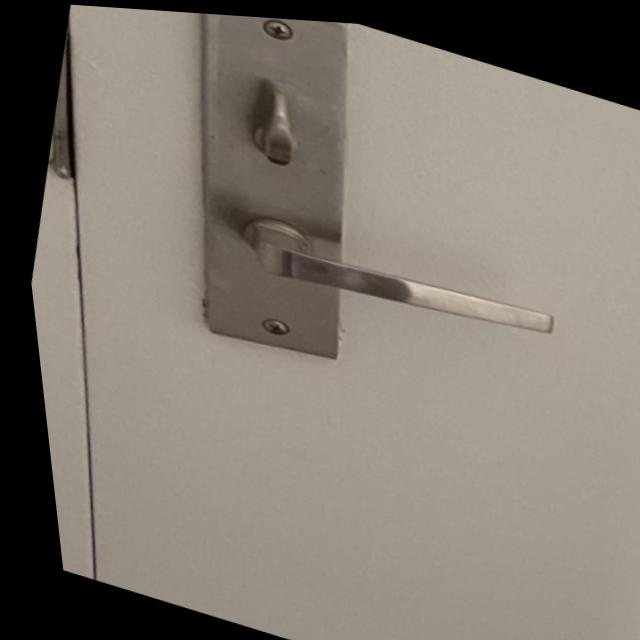door_handle: (198, 179, 580, 379)
